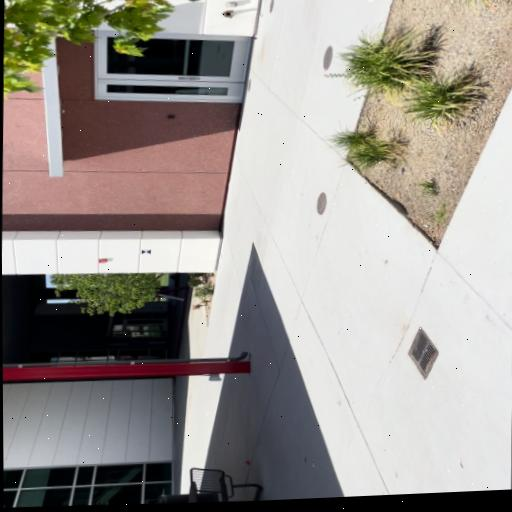target2: (141, 249, 151, 254)
